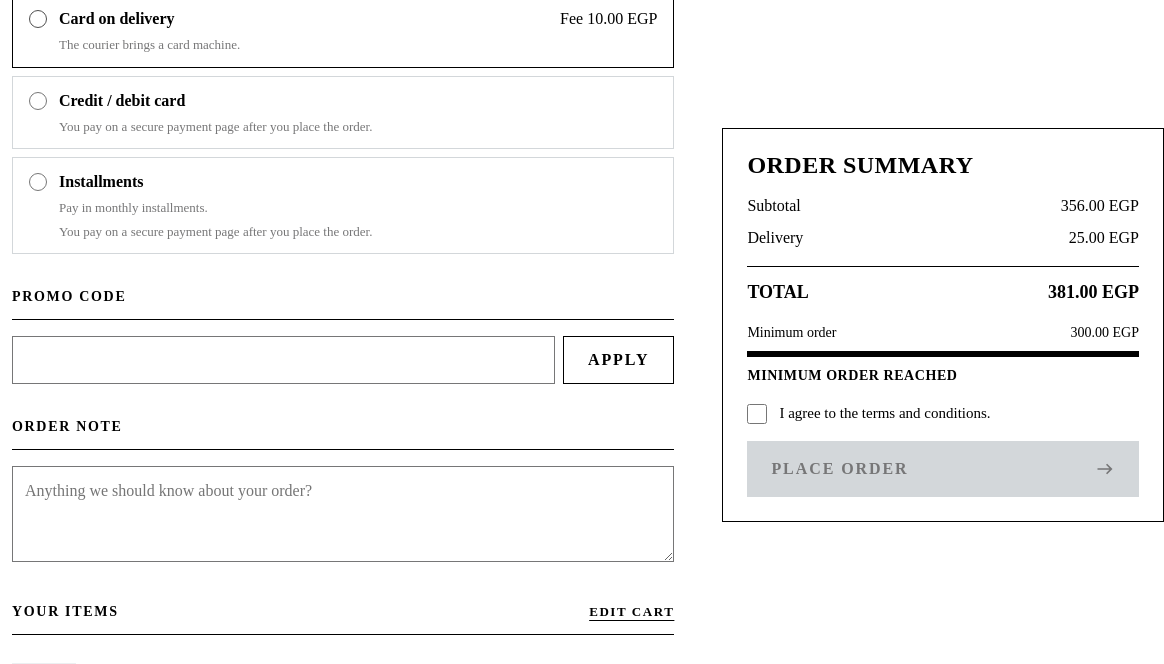
CheckoutView: changing a choice › keeps a refused code on screen (with "Remove code") when asking again without it fails
(page scrolled)
Step 1. Type "NOPE" into the field labelled "Promo code" → (283, 360), box [12,336,555,384]
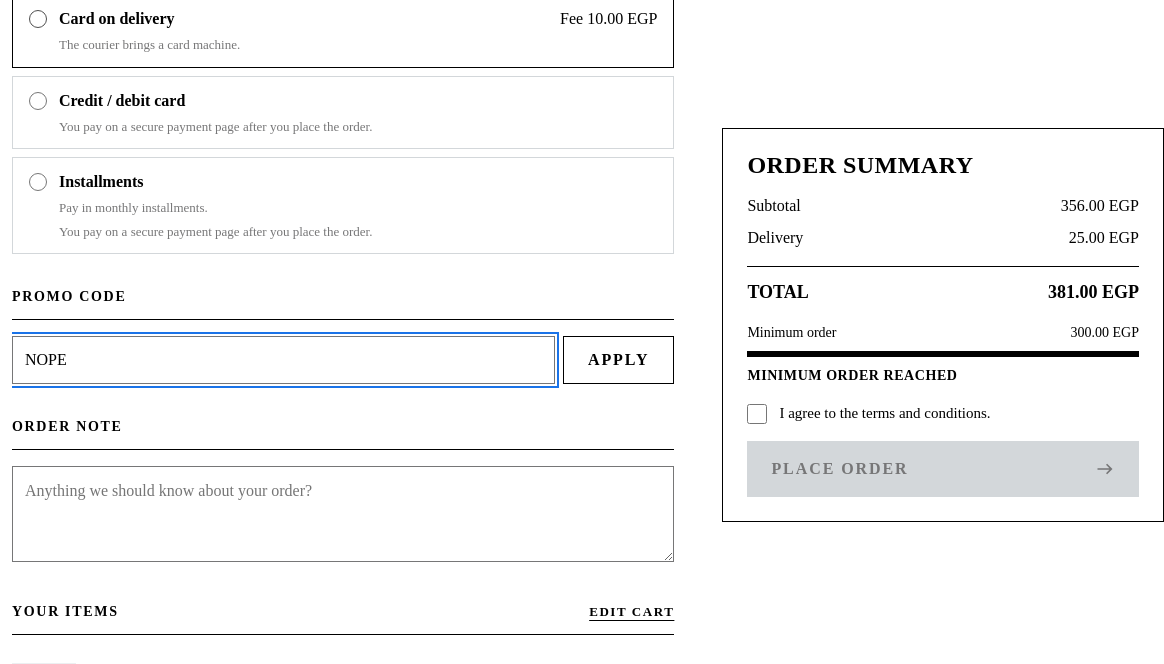
Step 2. Click the button "Apply" → (619, 360), box [563,336,674,384]
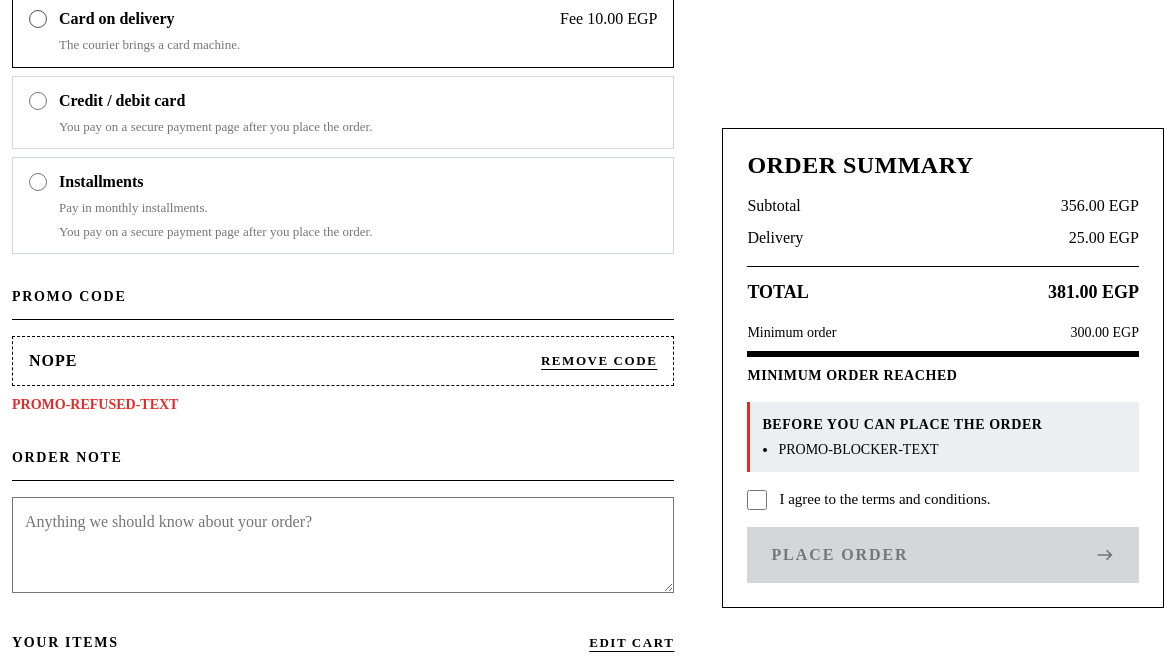
Result: the text with test id "promo-code" reads "NOPE" at [29,352,77,369]
Result: the button "Remove code" is shown at [541,351,657,371]
Result: the element with test id "checkout-blockers" shows "PROMO-BLOCKER-TEXT" at [778,442,939,457]
